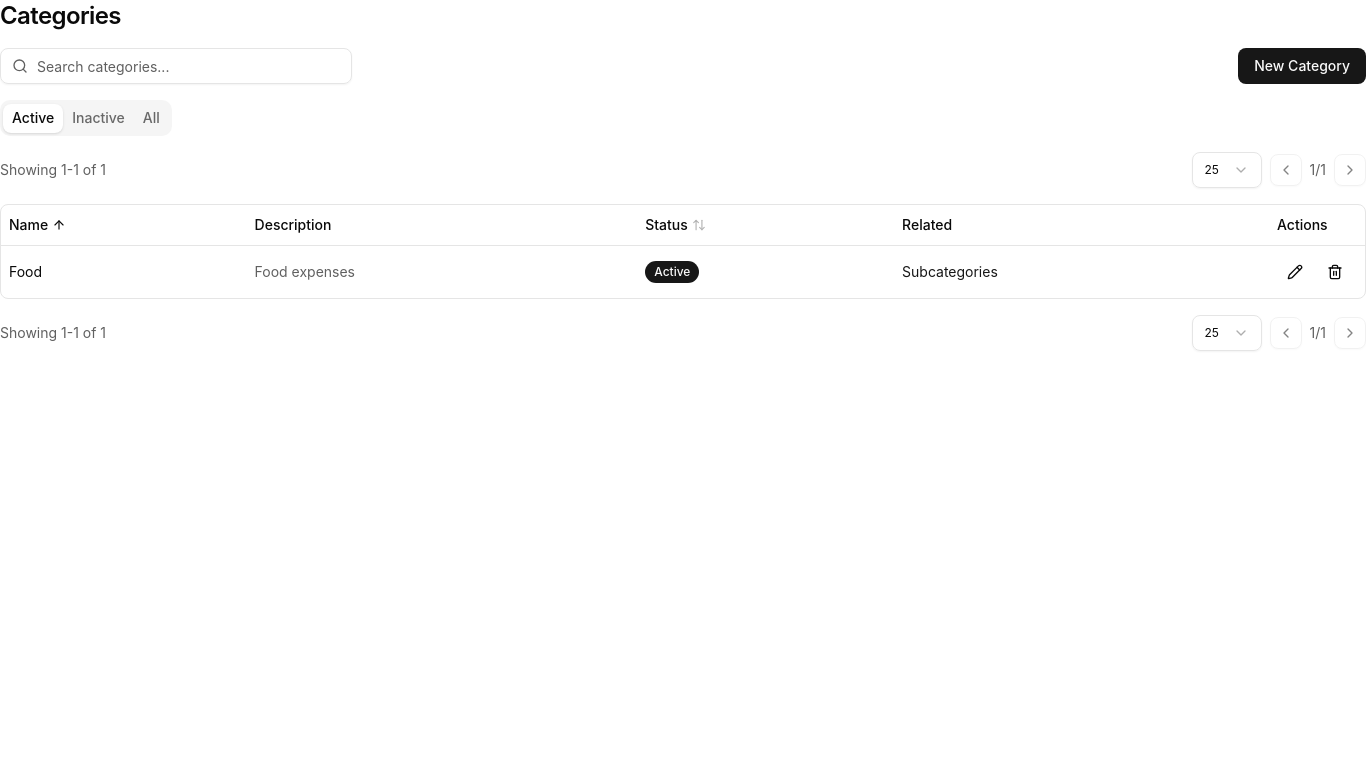
Test: Categories › opens edit dialog when Edit button is clicked
Click the button named "edit": (1295, 272) x1=1277 y1=254 x2=1313 y2=290
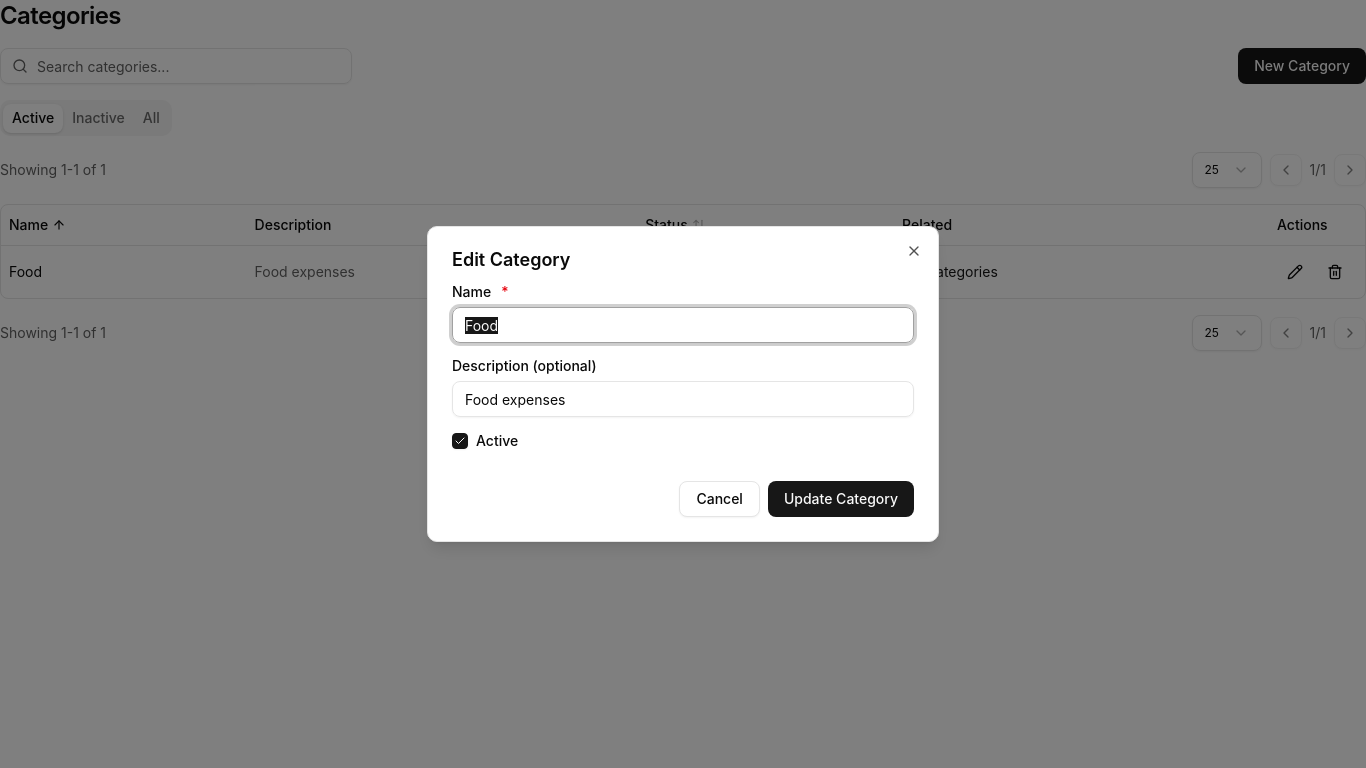
expect the heading "Edit Category" is shown: met, box x1=452 y1=249 x2=570 y2=270
